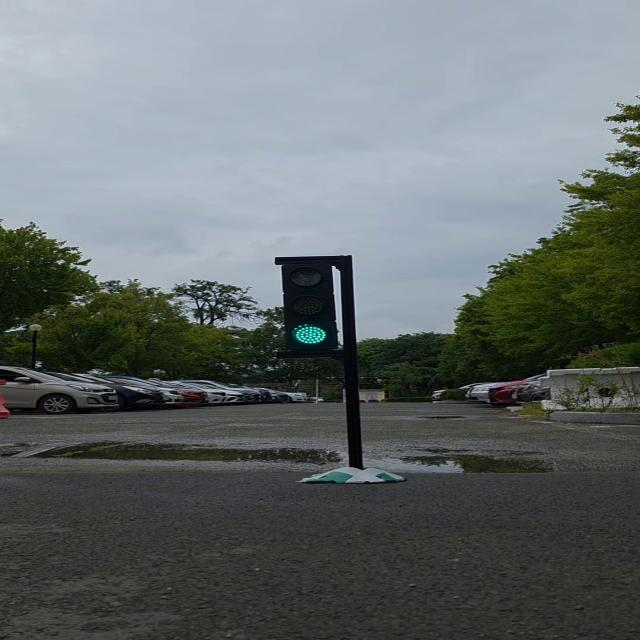green: (277, 256, 353, 358)
